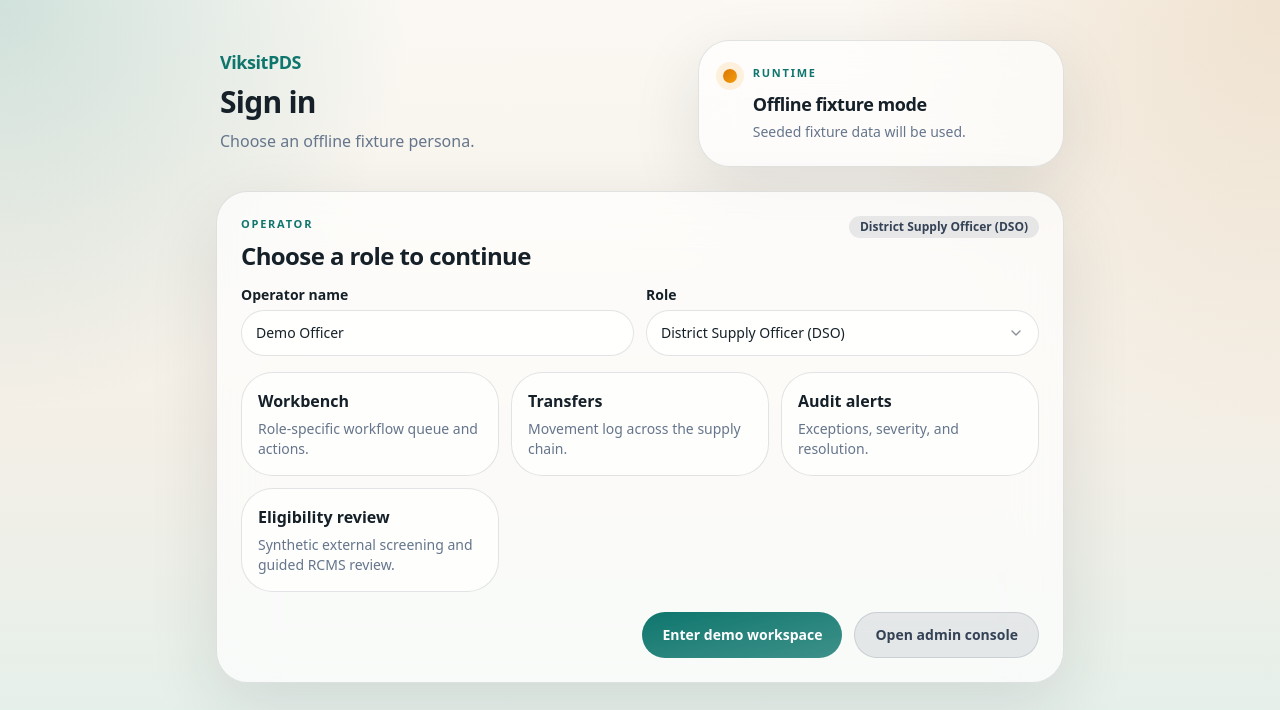
it: app shell › lets control office open eligibility through the module shell
What coordinates should you click on to do the following:
click the button "Enter demo workspace"
I would click on:
 (742, 635)
Its box is 642,612 -> 842,658.
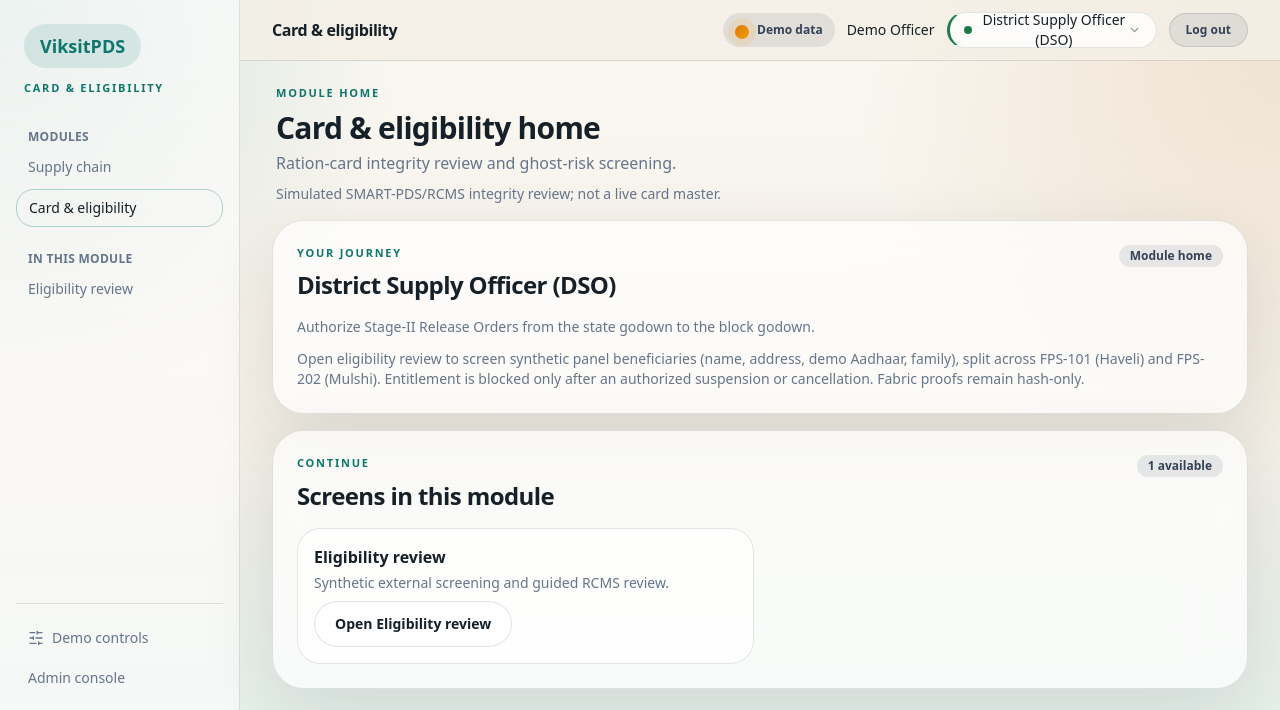
Result: the heading "Card & eligibility home" is shown at 276,106 -> 600,148
What coordinates should you click on to do the following:
click the link "Eligibility review"
I would click on:
 (80, 288)
Its box is 28,278 -> 133,298.
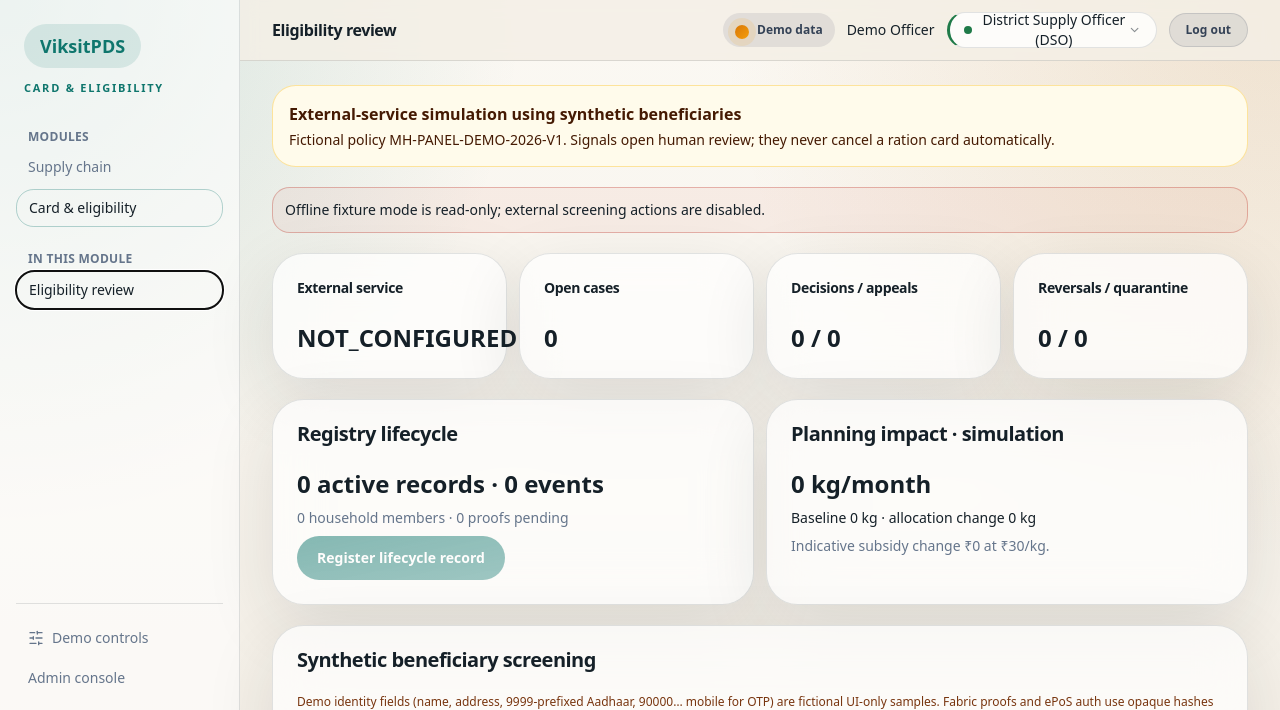
Result: the text "External-service simulation using synthetic beneficiaries" is shown at 289,103 -> 741,125
